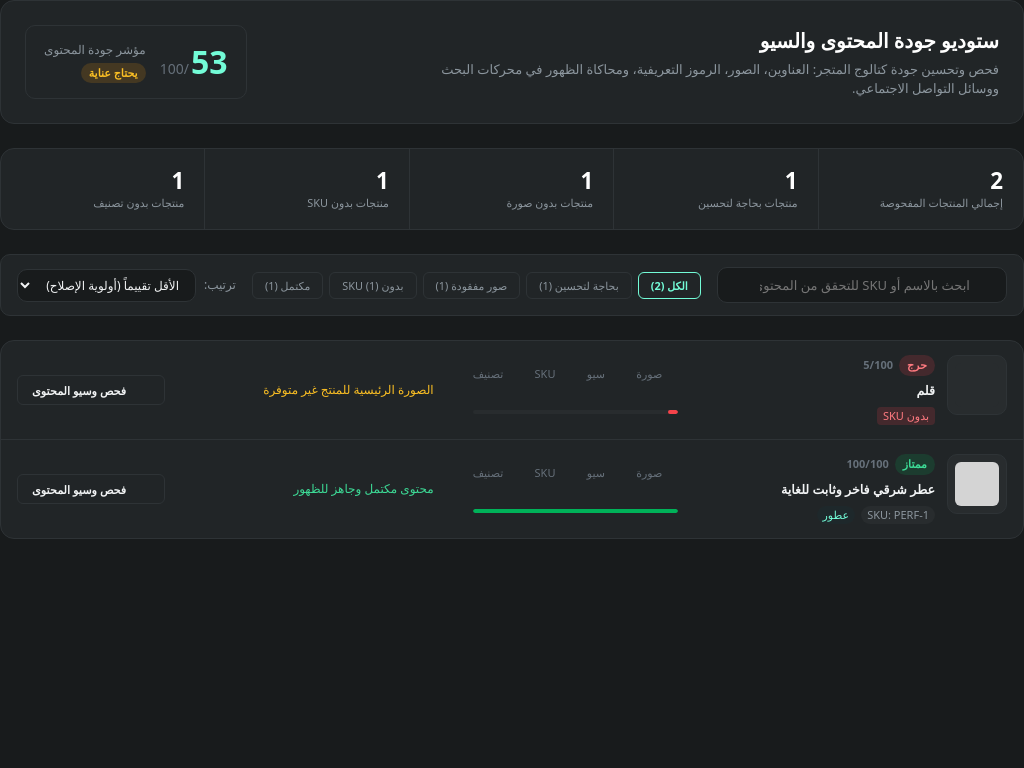
ContentStudio › filters products by clicking filter chips
The image size is (1024, 768).
Click the button "صور مفقودة (1)": x=471, y=285 [422,272,520,299]
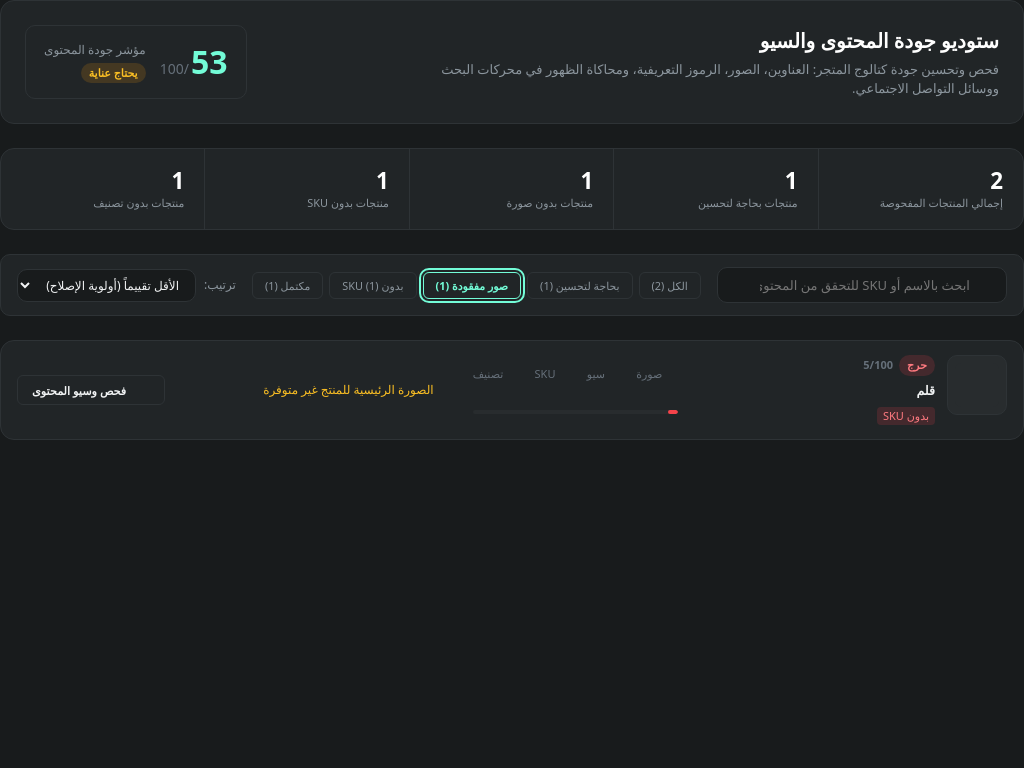
Check: the heading "قلم" is shown, box [916,382,935,399]
Check: the heading "عطر شرقي فاخر وثابت للغاية" is gone
